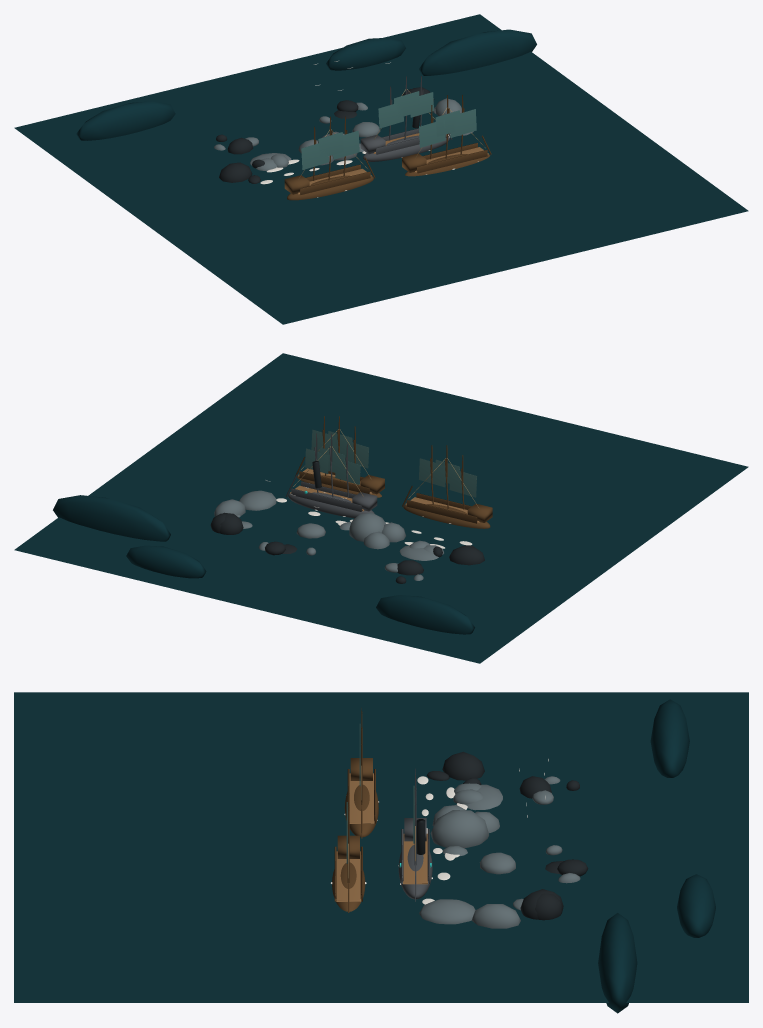
Rendered from 3D模型 scene_shipwreck_bay.glb.
The picture shows the model from 3 angles, top to bottom: view 1: azimuth 30°, elevation 25°; view 2: azimuth 150°, elevation 25°; view 3: azimuth 270°, elevation 25°; orthographic projection. The views are drawn at different scales.
Visible parts, largest first — view 1: sea_plane, far_island_2, far_island_0, far_island_1, C_hull, B_hull, B_sail2, A_bulwark, rock_15, B_bulwark; view 2: sea_plane, far_island_2, far_island_0, far_island_1, C_hull, rock_07, B_hull, rock_22, B_sail0, B_sail2, rock_15, B_bulwark.001 (+1 smaller); view 3: sea_plane, far_island_2, far_island_0, far_island_1, rock_07, rock_22, rock_17, rock_15, C_hull, B_deck, A_deck, B_hull (+5 smaller).
Boxes of the visible parts, left/top/right/bottom form: sea_plane: left=14, top=14, right=748, bottom=324; far_island_2: left=419, top=29, right=536, bottom=75; far_island_0: left=76, top=101, right=175, bottom=140; far_island_1: left=326, top=37, right=405, bottom=70; C_hull: left=363, top=135, right=449, bottom=161; B_hull: left=287, top=175, right=373, bottom=200; B_sail2: left=301, top=143, right=328, bottom=169; A_bulwark: left=417, top=150, right=487, bottom=173; rock_15: left=219, top=162, right=252, bottom=182; B_bulwark: left=300, top=171, right=370, bottom=194; sea_plane: left=14, top=353, right=748, bottom=663; far_island_2: left=53, top=495, right=170, bottom=541; far_island_0: left=376, top=595, right=474, bottom=634; far_island_1: left=126, top=545, right=206, bottom=578; C_hull: left=288, top=492, right=374, bottom=518; rock_07: left=349, top=512, right=385, bottom=541; B_hull: left=403, top=504, right=490, bottom=528; rock_22: left=239, top=490, right=276, bottom=510; B_sail0: left=419, top=458, right=445, bottom=487; B_sail2: left=449, top=471, right=477, bottom=497; rock_15: left=449, top=546, right=484, bottom=565; B_bulwark.001: left=406, top=500, right=477, bottom=523; sea_plane: left=14, top=692, right=748, bottom=1002; far_island_2: left=598, top=913, right=637, bottom=1013; far_island_0: left=650, top=699, right=689, bottom=777; far_island_1: left=677, top=874, right=715, bottom=937; rock_07: left=430, top=810, right=488, bottom=848; rock_22: left=419, top=899, right=475, bottom=924; rock_17: left=471, top=904, right=520, bottom=928; rock_15: left=442, top=751, right=484, bottom=780; C_hull: left=398, top=845, right=432, bottom=899; B_deck: left=349, top=773, right=374, bottom=823; A_deck: left=336, top=851, right=360, bottom=901; B_hull: left=344, top=784, right=378, bottom=837.
Size of the model in its own units: 56.85 by 10.69 by 56.
